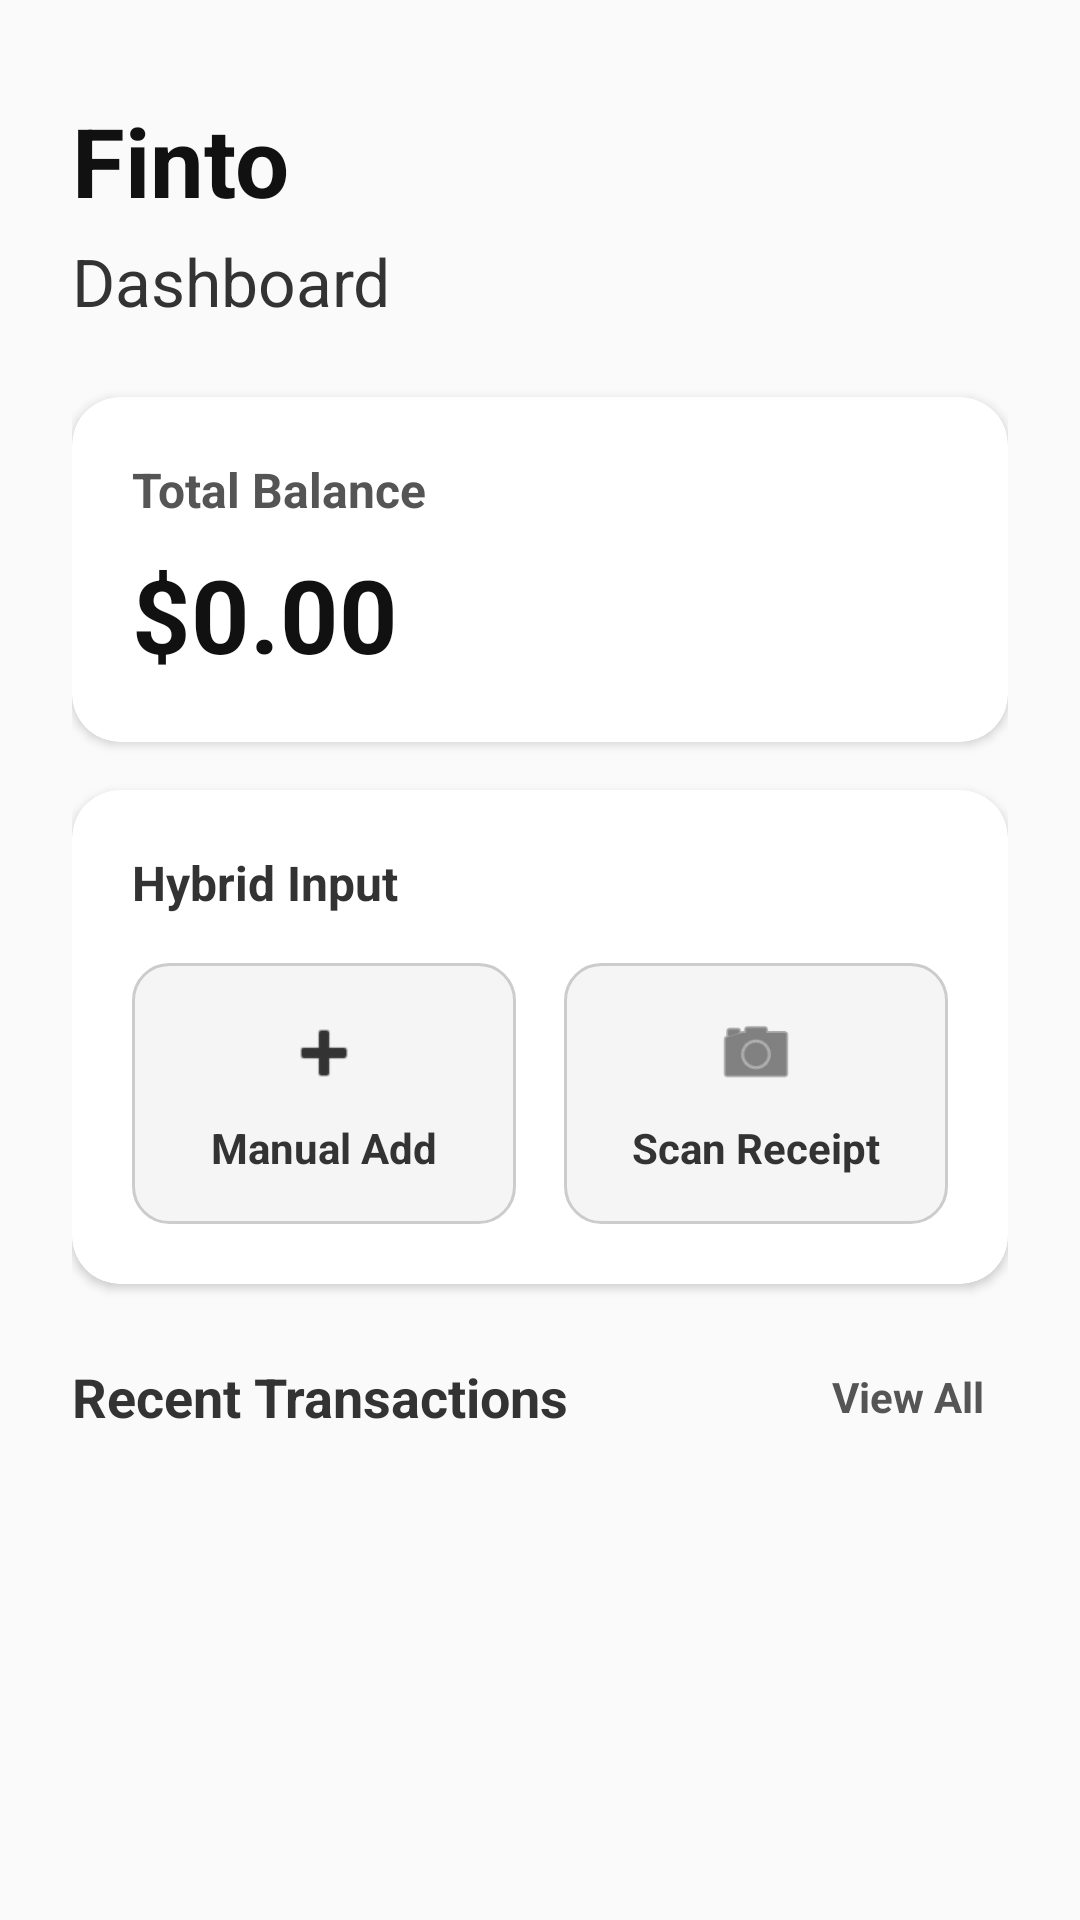

Point at icon controls on the screen. Image size 1080*1920, points as (x,y).
camera: (756,1052)
